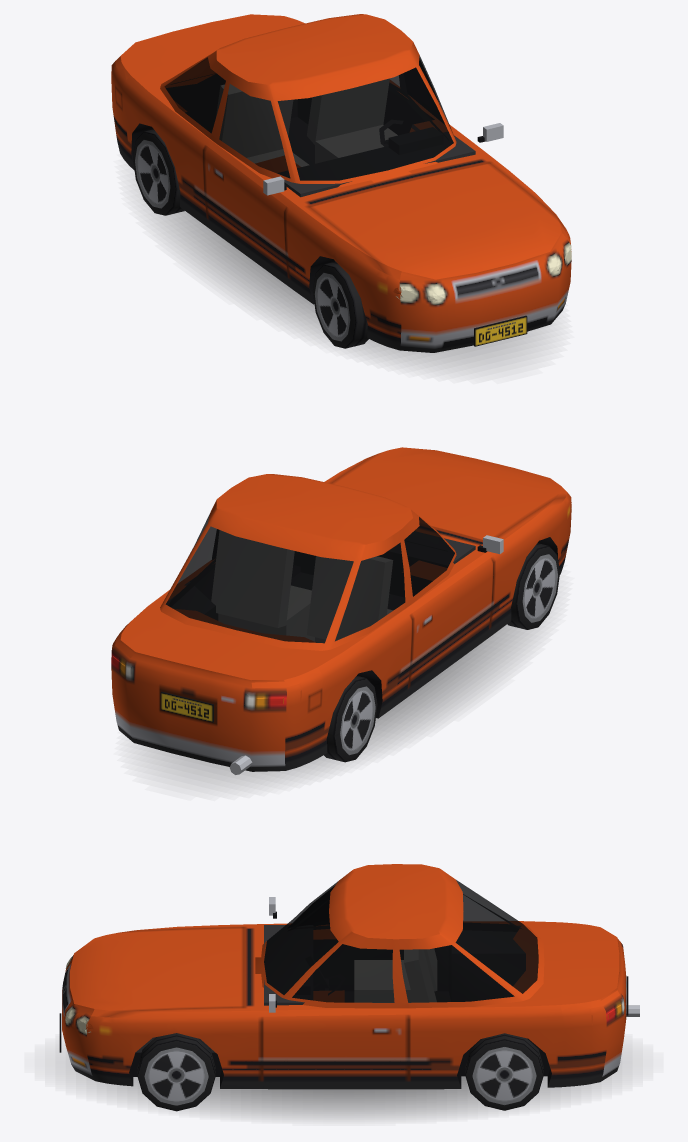
Rendered from dengo.glb.
The picture shows the model from 3 angles, top to bottom: view 1: azimuth 30°, elevation 25°; view 2: azimuth 150°, elevation 25°; view 3: azimuth 270°, elevation 25°; orthographic projection. The views are drawn at different scales.
Visible parts, largest first — view 1: Carroceria, Capo_malha, Interior, Porta_D_malha, Sombra, Tampa_malha, Roda_DD, Roda_TD, Porta_E_malha, Farol; view 2: Carroceria, Interior, Capo_malha, Porta_D_malha, Sombra, Tampa_malha, Roda_TD, Roda_DD; view 3: Carroceria, Porta_E_malha, Interior, Capo_malha, Sombra, Roda_DE, Roda_TE, Tampa_malha, Porta_D_malha.
Part boxes in pixels (bbox=[...]): Carroceria: bbox=[111, 14, 571, 352]; Capo_malha: bbox=[307, 162, 567, 279]; Interior: bbox=[166, 74, 475, 261]; Porta_D_malha: bbox=[203, 66, 295, 277]; Sombra: bbox=[152, 211, 544, 368]; Tampa_malha: bbox=[115, 14, 304, 73]; Roda_DD: bbox=[312, 261, 368, 348]; Roda_TD: bbox=[133, 129, 184, 215]; Porta_E_malha: bbox=[404, 42, 503, 143]; Farol: bbox=[393, 245, 571, 303]; Carroceria: bbox=[111, 450, 571, 774]; Interior: bbox=[166, 530, 475, 642]; Capo_malha: bbox=[330, 447, 567, 540]; Porta_D_malha: bbox=[392, 510, 503, 687]; Sombra: bbox=[144, 624, 534, 784]; Tampa_malha: bbox=[115, 622, 314, 688]; Roda_TD: bbox=[324, 676, 377, 762]; Roda_DD: bbox=[507, 543, 559, 629]; Carroceria: bbox=[59, 864, 639, 1089]; Porta_E_malha: bbox=[261, 932, 408, 1080]; Interior: bbox=[135, 897, 525, 1052]; Capo_malha: bbox=[75, 927, 244, 1017]; Sombra: bbox=[65, 1050, 622, 1117]; Roda_DE: bbox=[137, 1033, 215, 1111]; Roda_TE: bbox=[465, 1033, 543, 1110]; Tampa_malha: bbox=[562, 923, 619, 1008]; Porta_D_malha: bbox=[269, 887, 333, 927].
Bounding box in the file's own units: 2.26 × 1.35 × 4.83.
12 materials, 6 textured.
